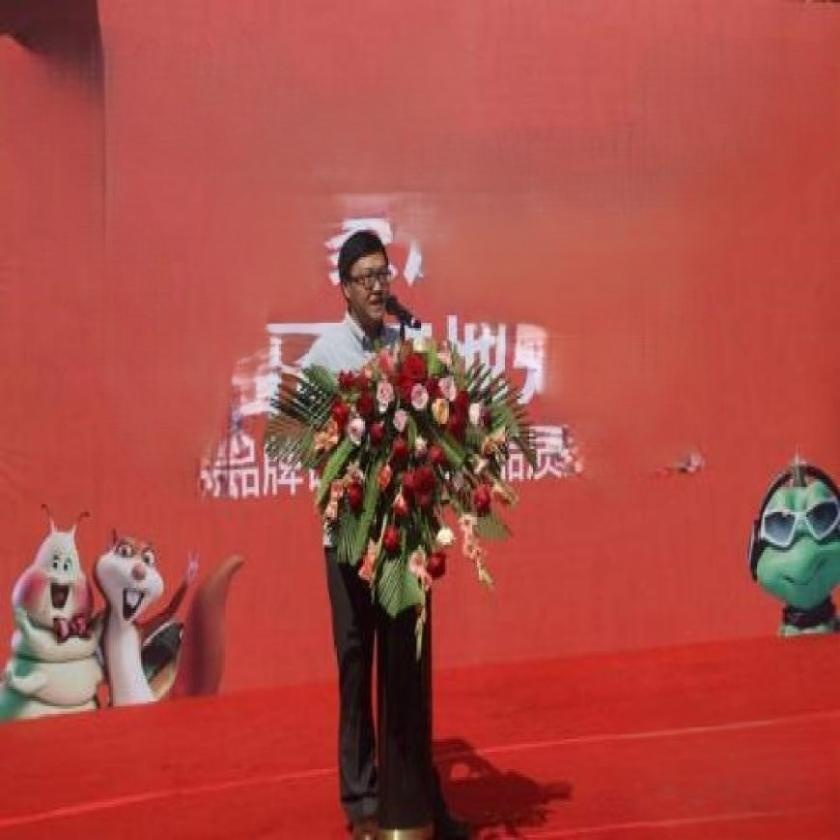Sin_casco: (335, 221, 401, 342)
